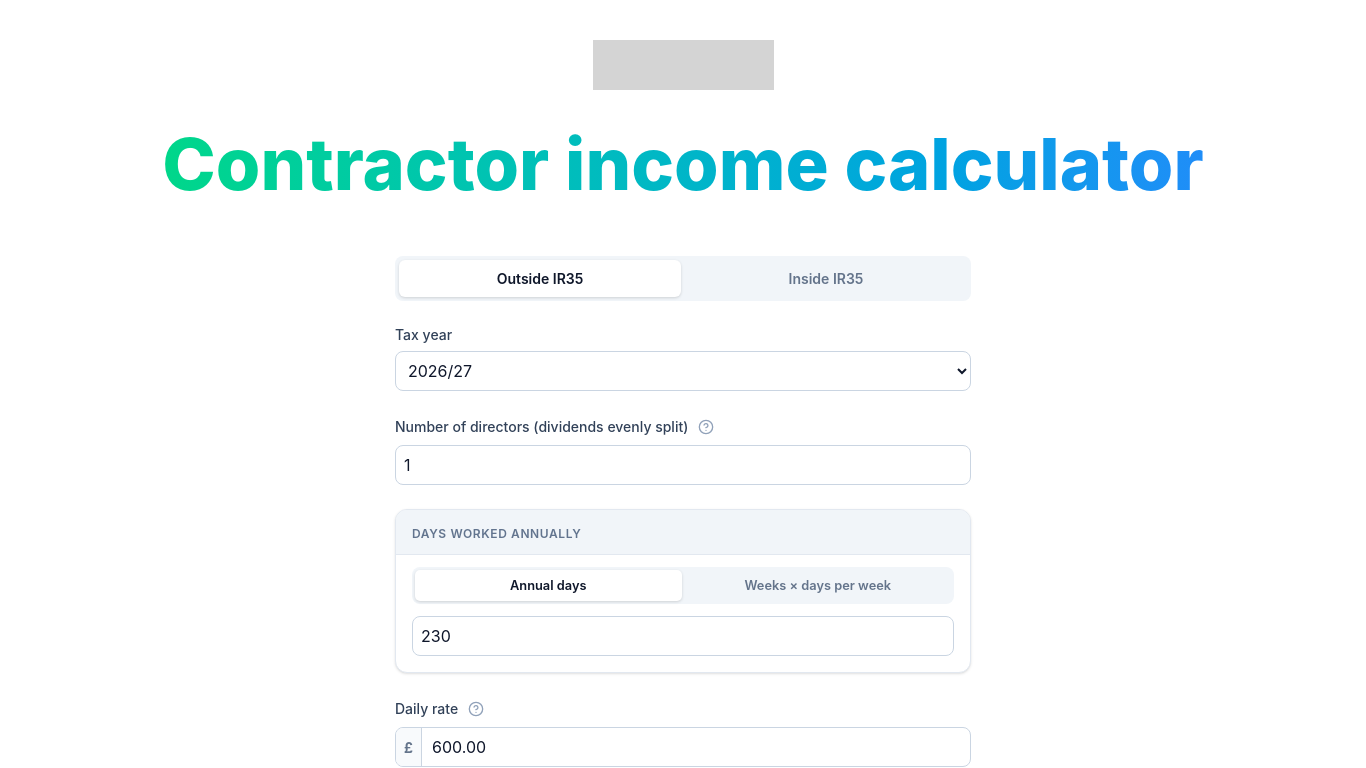
Test: inside IR35: total income tax tooltip shows on hover
The width and height of the screenshot is (1366, 768).
Click the button "Inside IR35": (826, 278) [685,260,967,297]
(page scrolled)
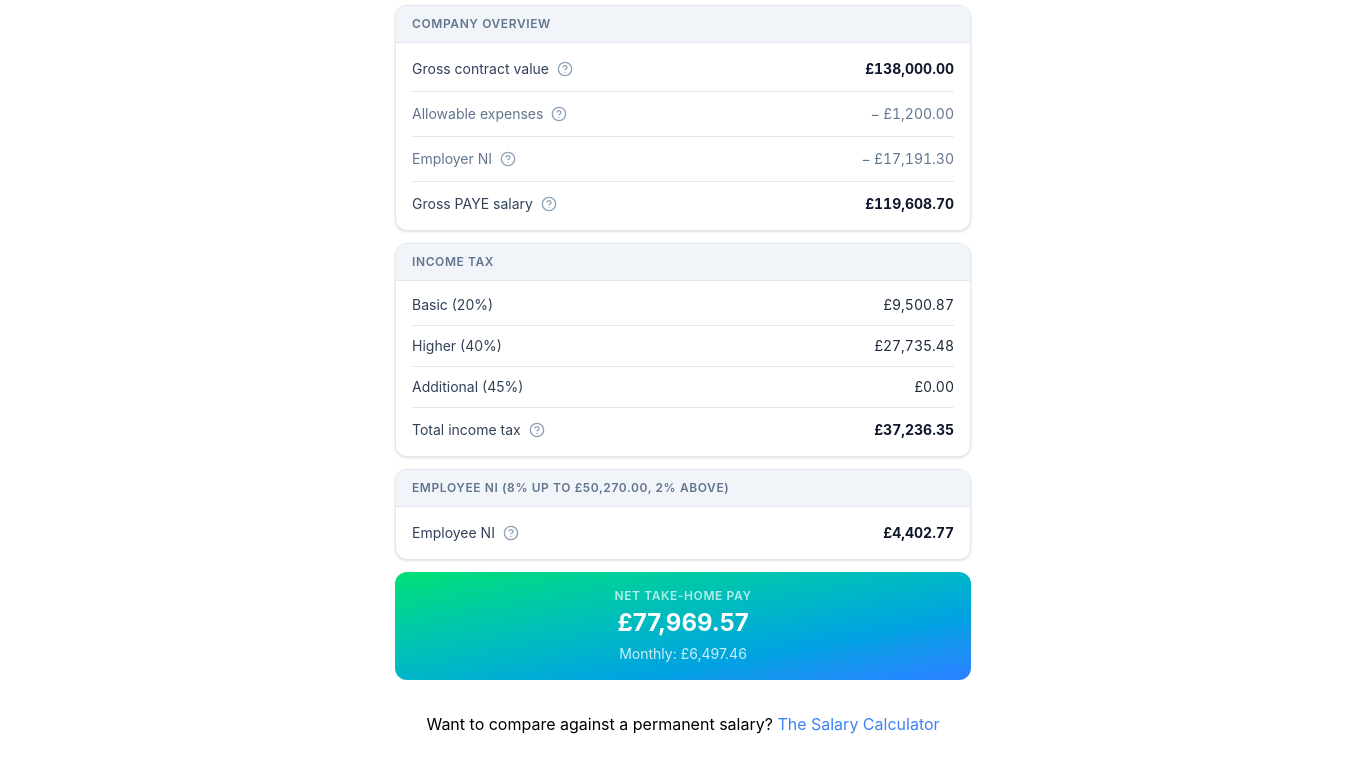
Hover over the button named "Total income tax information": (537, 430) [525,418,549,442]
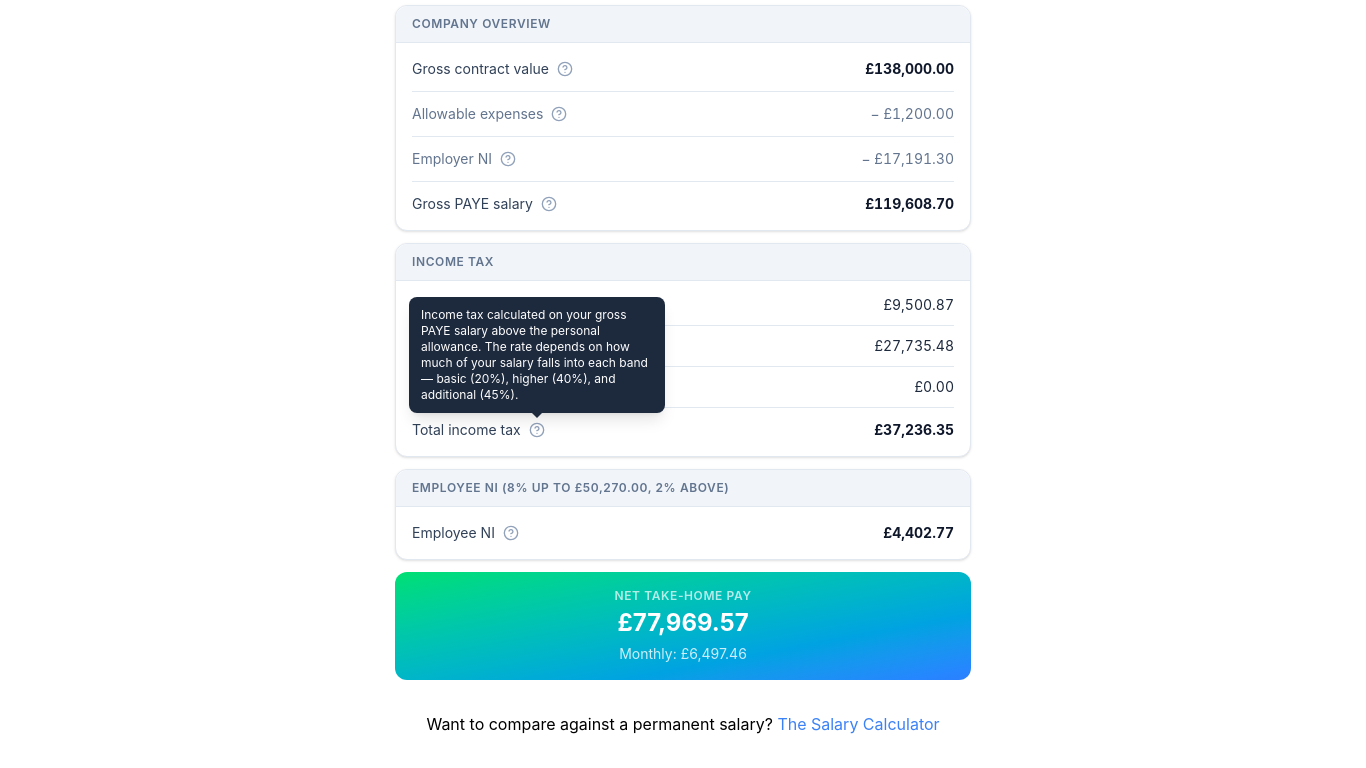
Check: the tooltip is shown, box [409,297,665,413]
